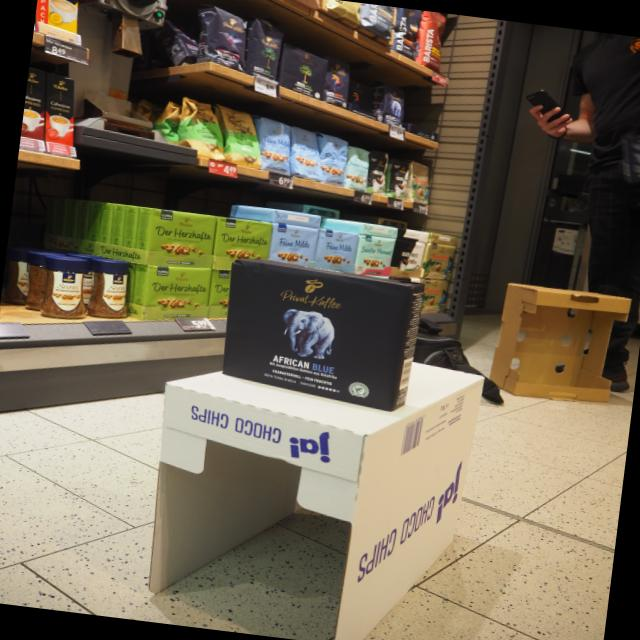AB Gemahlen: (220, 256, 416, 414)
